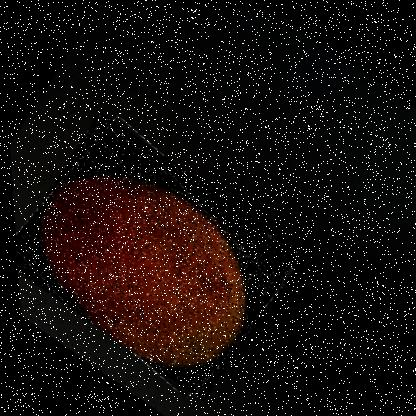mango: (6, 107, 307, 404)
